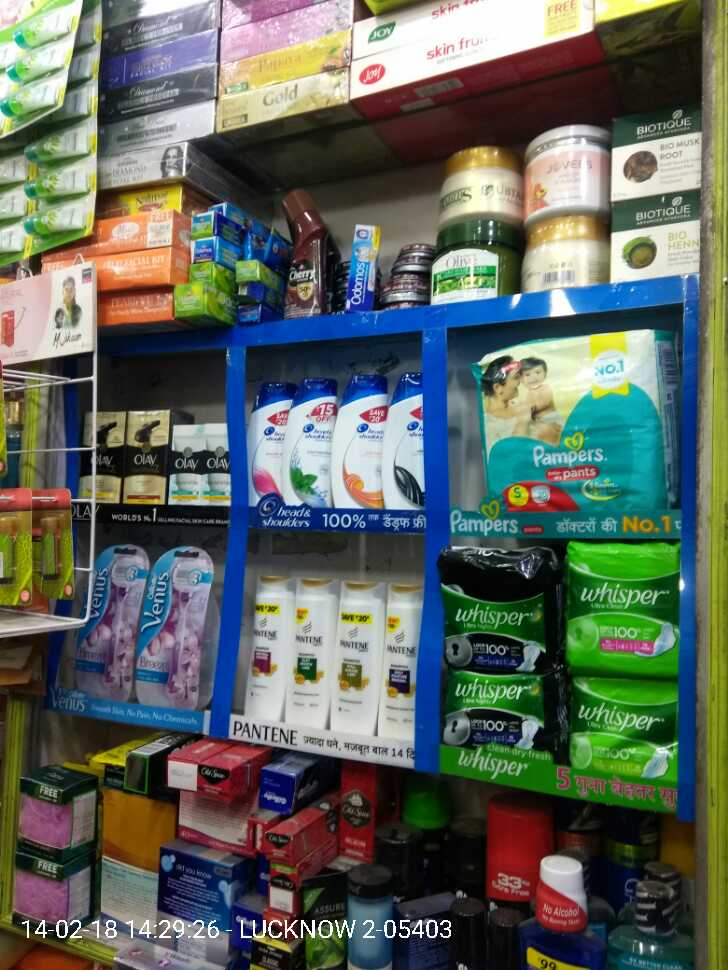venus: (135, 544, 219, 704), (83, 551, 135, 705)
